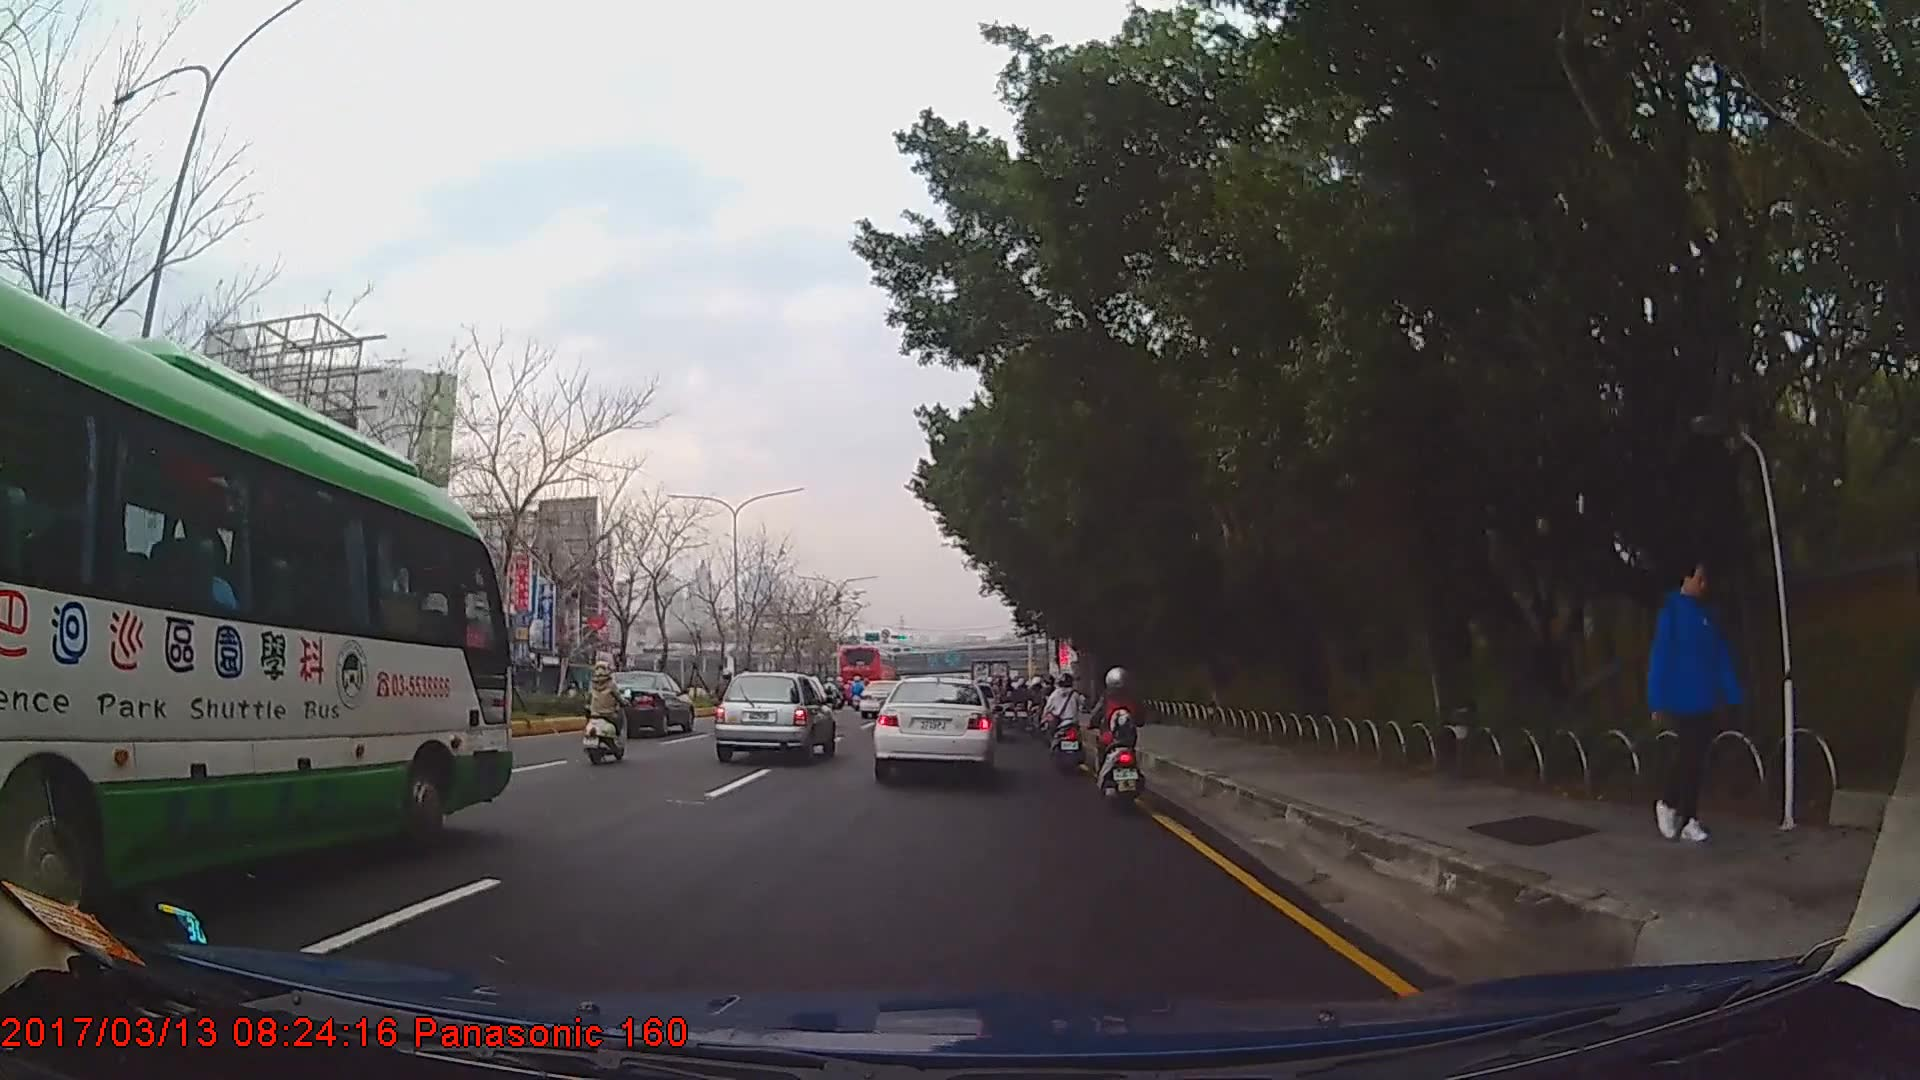pedestrian: (1644, 560, 1728, 844)
rider: (1093, 668, 1147, 813), (586, 664, 632, 763), (1044, 663, 1087, 767), (1039, 675, 1060, 752)
vehicle: (0, 269, 513, 947), (873, 675, 996, 780), (715, 668, 836, 759), (583, 669, 692, 737), (833, 642, 898, 701)
